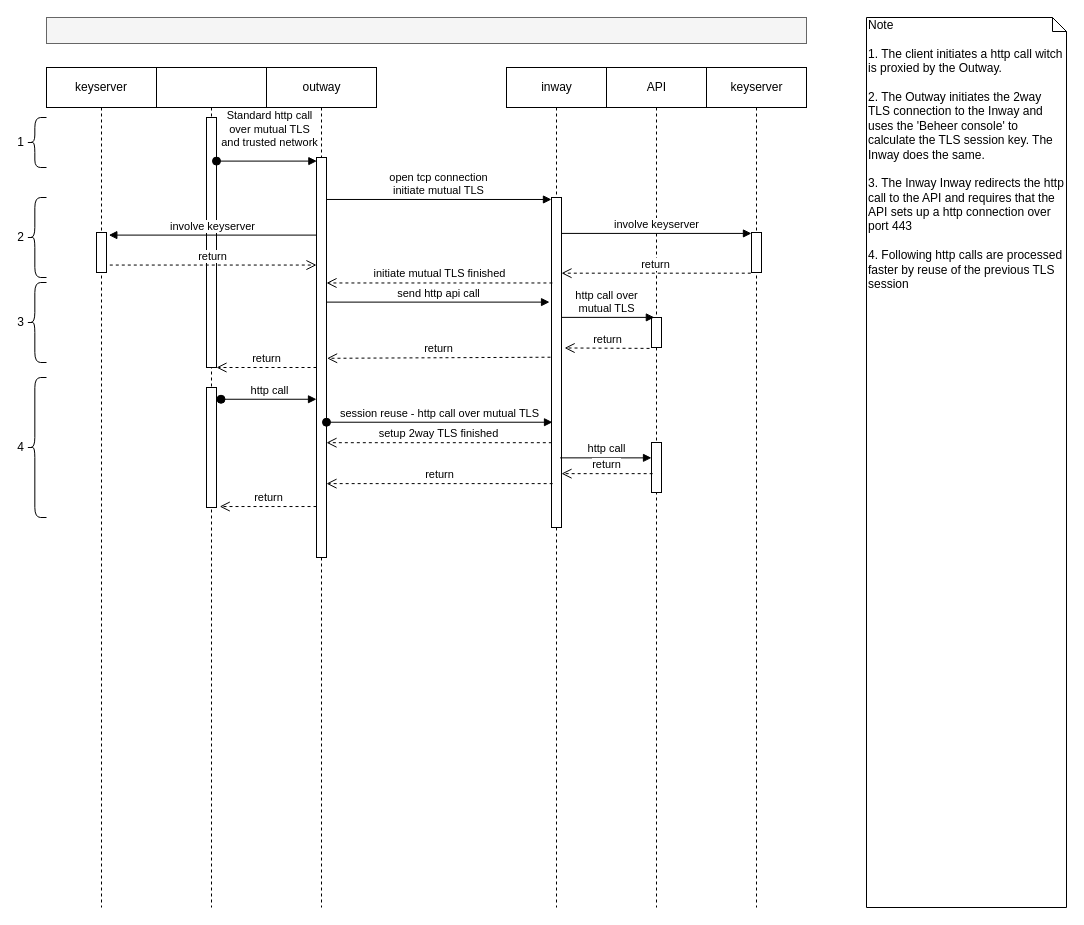
Some shapes in this 1084 by 925 pixel diagram are drawn without their labels. Here are the shapes that lost their labels. From the top down, the box of each, then its label:
(46, 16, 806, 44): tls handshake for nhp
(156, 66, 266, 908): application
